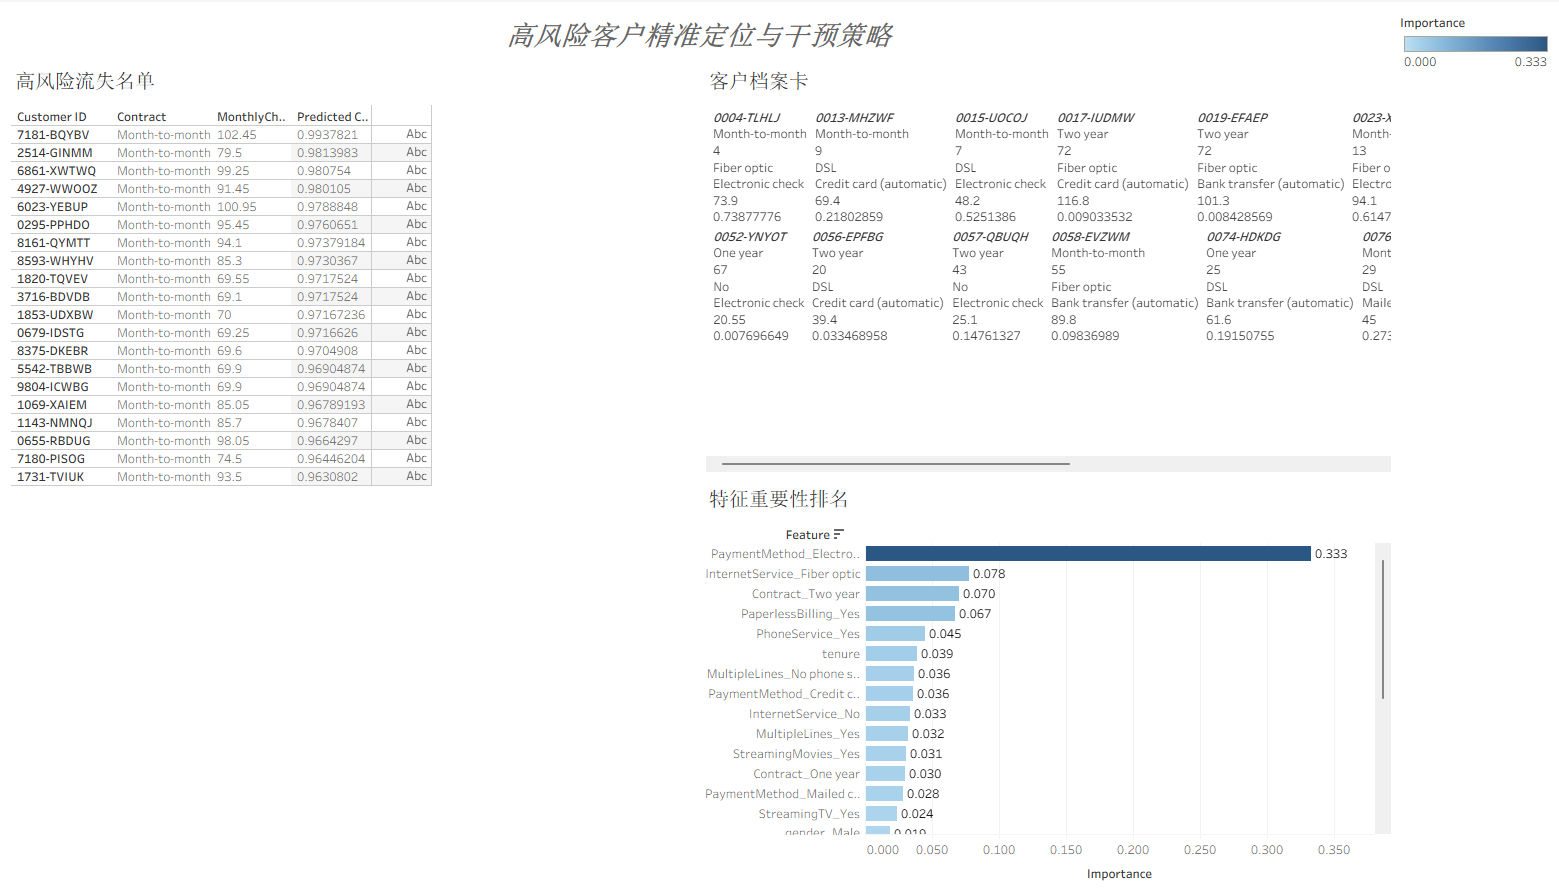

This screenshot's page, from the dashboard's own definition file:
{"tool":"tableau","page":{"name":"仪表板 2","canvas":[1000,1000],"units":"permille","ordinal":1},"visuals":[{"type":"text","box":[5.7,8.9,875.5,53.4]},{"type":"legend","title":"特征重要性排名","param":"[federated.08onm501txdw0w1ghw7lg1wypmte].[sum:Importance:qk]","box":[881.2,8.9,113.2,72.3]},{"type":"worksheet","title":"高风险流失名单","mark":"Automatic","rows":["customerID","Contract","MonthlyCharges_x","Predicted_Churn_Probability"],"box":[5.7,62.3,437.8,928.8]},{"type":"worksheet","title":"客户档案卡","mark":"Automatic","box":[443.4,62.3,437.8,464.4]},{"type":"worksheet","title":"特征重要性排名","mark":"Bar","rows":["Feature"],"cols":["Importance"],"box":[443.4,526.7,437.8,464.4]}]}

Visuals, with their boxes on the dashboard's canvas, which has no fixed pixel size, in thousandths of its width and height (x1, y1, x2, y2). These are canvas units, not pixel positions in the 1559x892 screenshot, which may show the page scaled, cropped or inside an application window:
text: (left=6, top=9, right=881, bottom=62)
"特征重要性排名" legend: (left=881, top=9, right=994, bottom=81)
"高风险流失名单" worksheet: (left=6, top=62, right=444, bottom=991)
"客户档案卡" worksheet: (left=443, top=62, right=881, bottom=527)
"特征重要性排名" worksheet (Bar marks): (left=443, top=527, right=881, bottom=991)
